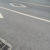zebra: (1, 7, 50, 35)
